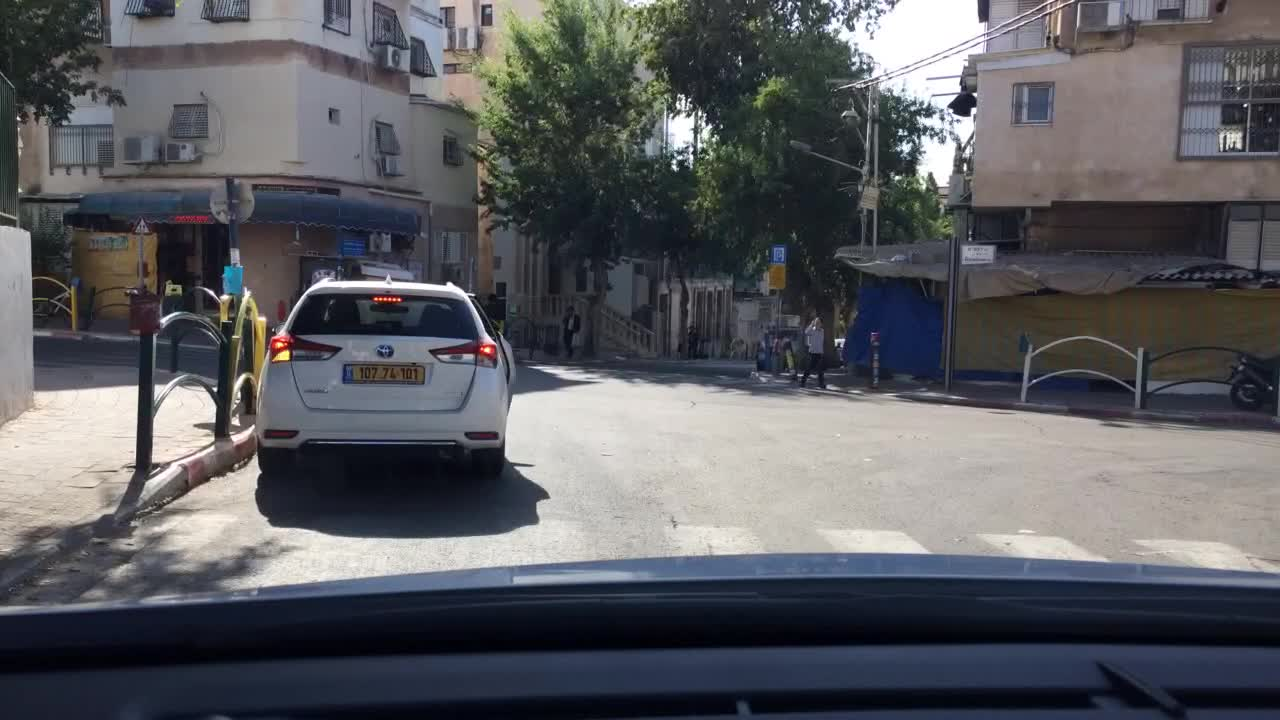car: (253, 273, 516, 482), (754, 327, 796, 371)
motor: (1221, 346, 1279, 417)
person: (793, 312, 827, 388), (558, 297, 584, 361), (482, 287, 508, 334), (685, 320, 700, 359)
traffic sign: (206, 179, 255, 226), (768, 241, 784, 290), (960, 243, 996, 264), (130, 212, 152, 236)
